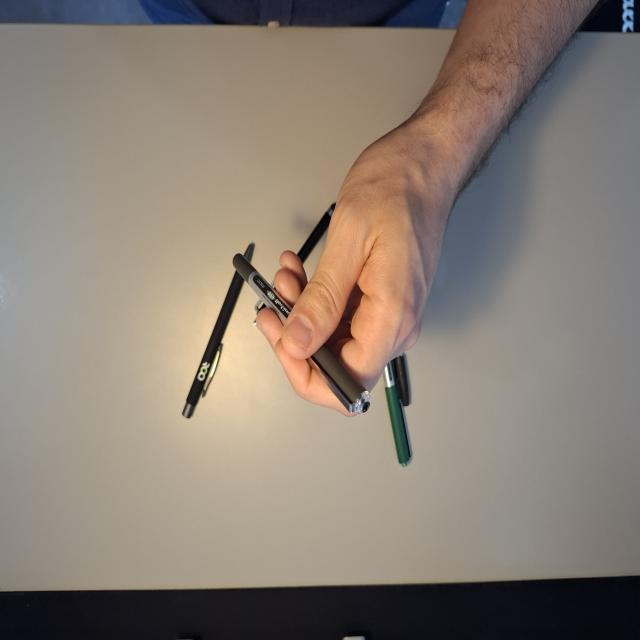glove_off: (255, 123, 446, 420)
